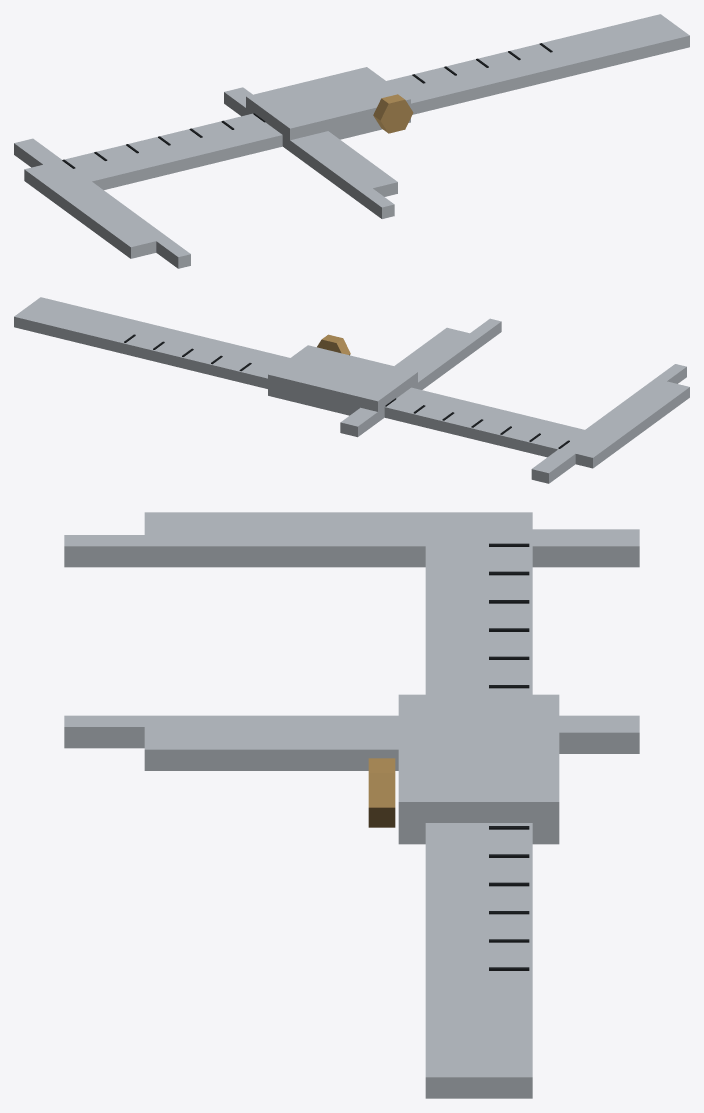
File: Prop_Survey_Calipers_Static_LOD1.glb
3 renders of one model, top to bottom at view 1: azimuth 30°, elevation 25°; view 2: azimuth 150°, elevation 25°; view 3: azimuth 270°, elevation 25°, orthographic. The views are drawn at different scales.
Visible parts, largest first — view 1: Prop_Survey_Calipers_Static; view 2: Prop_Survey_Calipers_Static; view 3: Prop_Survey_Calipers_Static.
Part boxes in pixels (left/top/right/bottom): Prop_Survey_Calipers_Static: left=14, top=14, right=689, bottom=268; Prop_Survey_Calipers_Static: left=14, top=297, right=689, bottom=483; Prop_Survey_Calipers_Static: left=64, top=512, right=639, bottom=1098.
Bounding box in the file's own units: 0.2 × 0.0097 × 0.086.
